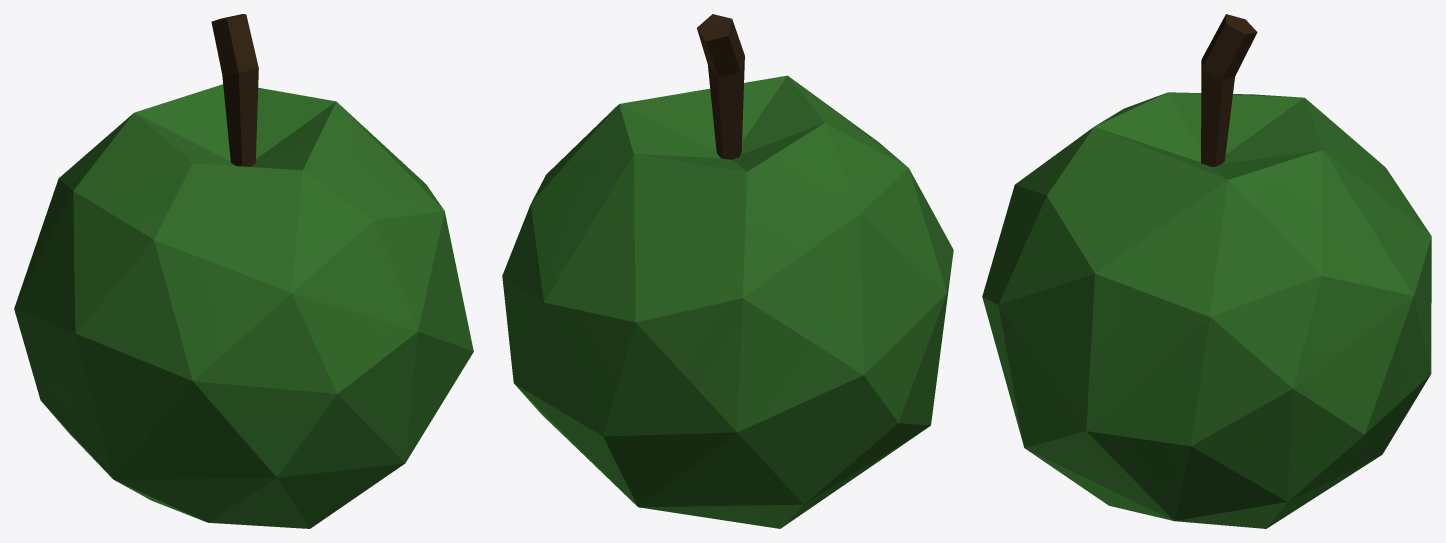
Rendered from apple_1.fbx.
The picture shows the model from 3 angles, left to right: view 1: azimuth 30°, elevation 25°; view 2: azimuth 150°, elevation 25°; view 3: azimuth 270°, elevation 25°; orthographic projection.
Visible parts, largest first — view 1: AppleGreen; view 2: AppleGreen; view 3: AppleGreen.
Boxes of the visible parts, left/top/right/bottom form: AppleGreen: left=14, top=14, right=473, bottom=528; AppleGreen: left=502, top=14, right=953, bottom=528; AppleGreen: left=982, top=14, right=1431, bottom=528.
Bounding box in the file's own units: 0.0585 × 0.0701 × 0.0592.
